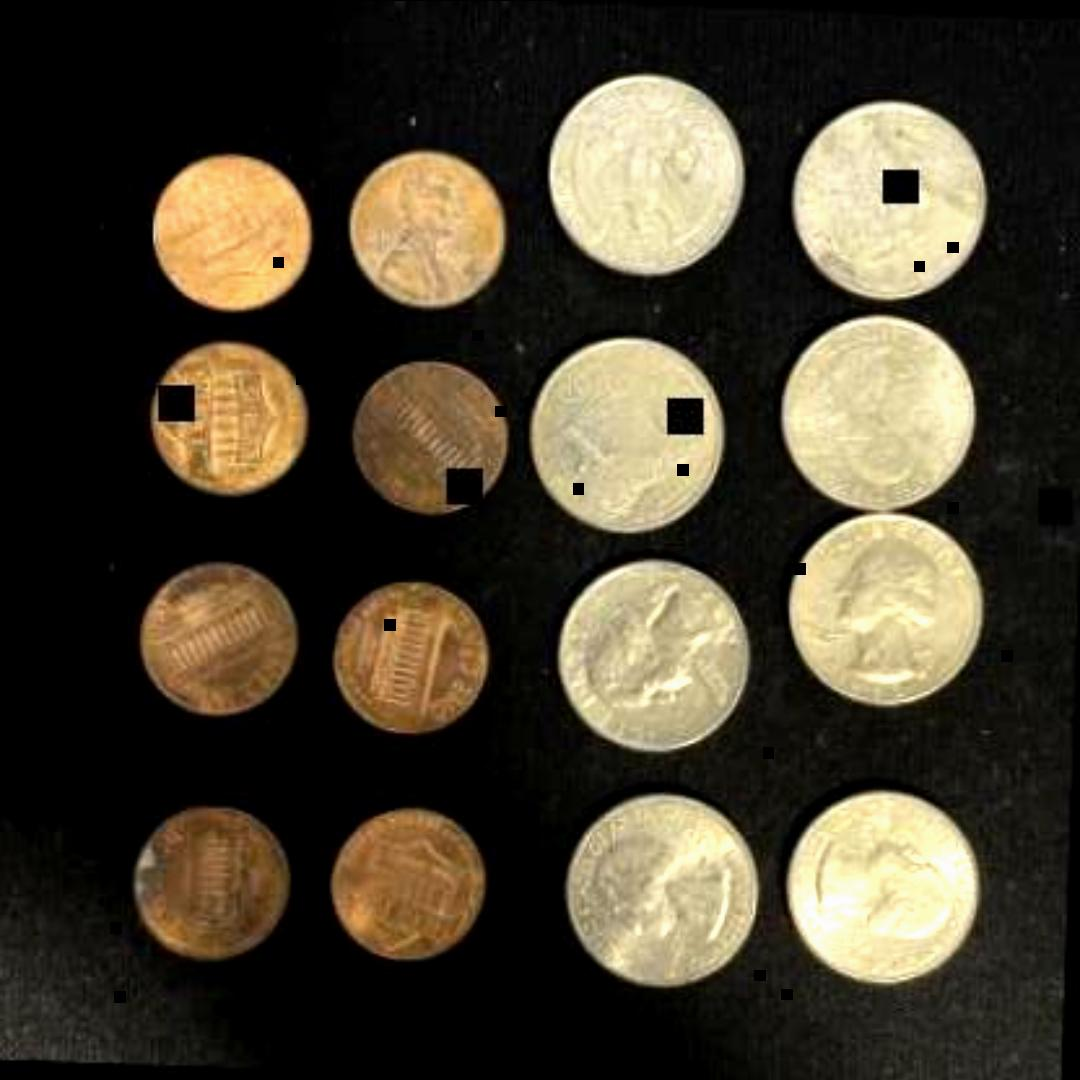Penny: (133, 326, 309, 512), (336, 146, 516, 322), (125, 552, 304, 722), (142, 148, 314, 324), (338, 357, 518, 517), (320, 579, 493, 745), (322, 804, 482, 976), (128, 798, 288, 970)
Quarter: (538, 76, 750, 296), (551, 786, 756, 1006), (781, 96, 993, 308), (770, 310, 982, 520), (779, 783, 981, 1003), (516, 337, 724, 549), (781, 510, 993, 718), (550, 549, 756, 759)
